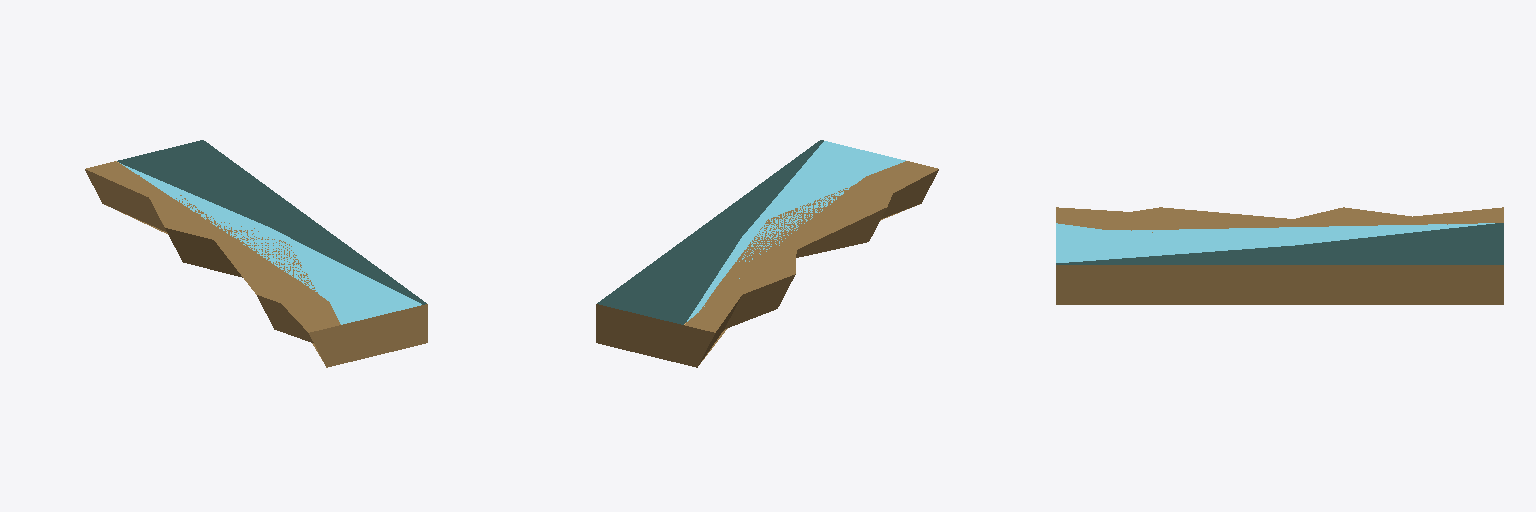
3 views of the same model, side by side, from view 1: azimuth 30°, elevation 25°; view 2: azimuth 150°, elevation 25°; view 3: azimuth 270°, elevation 25° (orthographic).
Visible parts, largest first — view 1: Mesh1 Brown_Cliff_Top Model; view 2: Mesh1 Brown_Cliff_Top Model; view 3: Mesh1 Brown_Cliff_Top Model.
Part boxes in pixels (x1,y1,x2,y2): Mesh1 Brown_Cliff_Top Model: (85,140,427,367); Mesh1 Brown_Cliff_Top Model: (596,140,938,367); Mesh1 Brown_Cliff_Top Model: (1056,207,1503,304).
Bounding box in the file's own units: 0.92 × 0.29 × 3.
Materials: 1 (1 with a texture image).